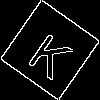K: (25, 24, 80, 81)
